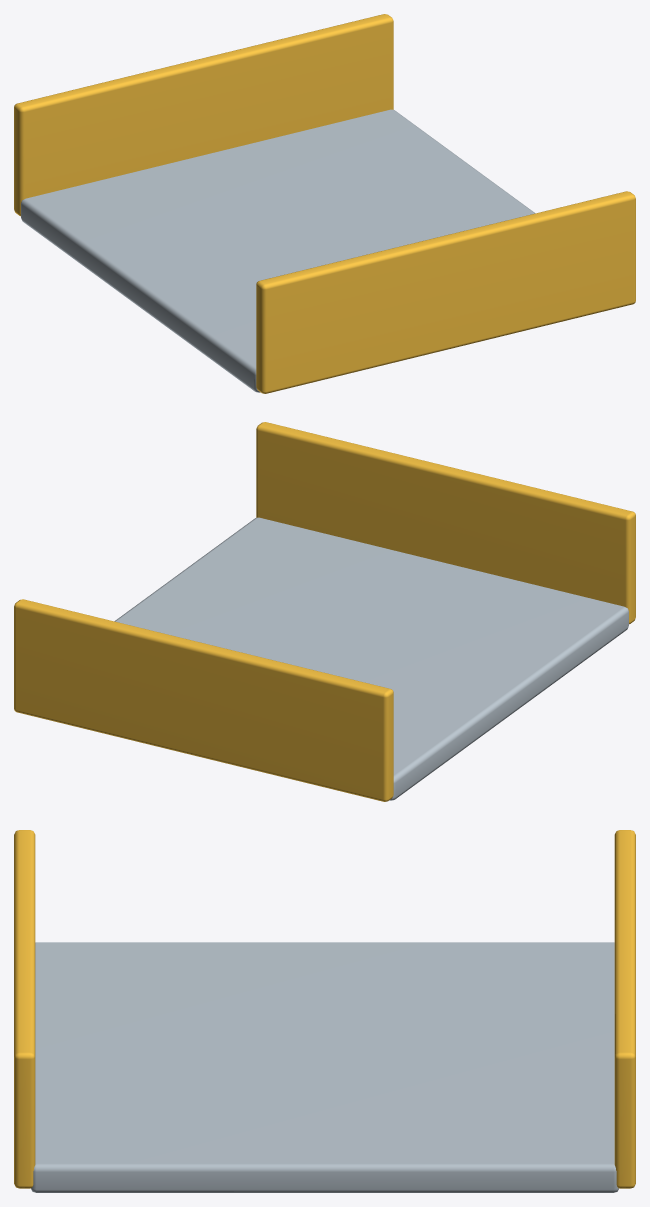
File: Connection_ScrapChute.fbx
The picture shows the model from 3 angles, top to bottom: view 1: azimuth 30°, elevation 25°; view 2: azimuth 150°, elevation 25°; view 3: azimuth 270°, elevation 25°; orthographic projection. The views are drawn at different scales.
Parts seen in each view (by area): view 1: Bottom, Side.004, Side.005; view 2: Bottom, Side.005, Side.004; view 3: Bottom, Side.004, Side.005.
Boxes of the visible parts, bbox=[...] form: Bottom: bbox=[21, 109, 535, 392]; Side.004: bbox=[256, 191, 635, 393]; Side.005: bbox=[14, 14, 393, 216]; Bottom: bbox=[114, 517, 628, 800]; Side.005: bbox=[14, 599, 393, 801]; Side.004: bbox=[256, 422, 635, 624]; Bottom: bbox=[31, 942, 618, 1192]; Side.004: bbox=[14, 830, 35, 1188]; Side.005: bbox=[614, 830, 635, 1188].
Bounding box in the file's own units: 1 × 0.29 × 1.16.
